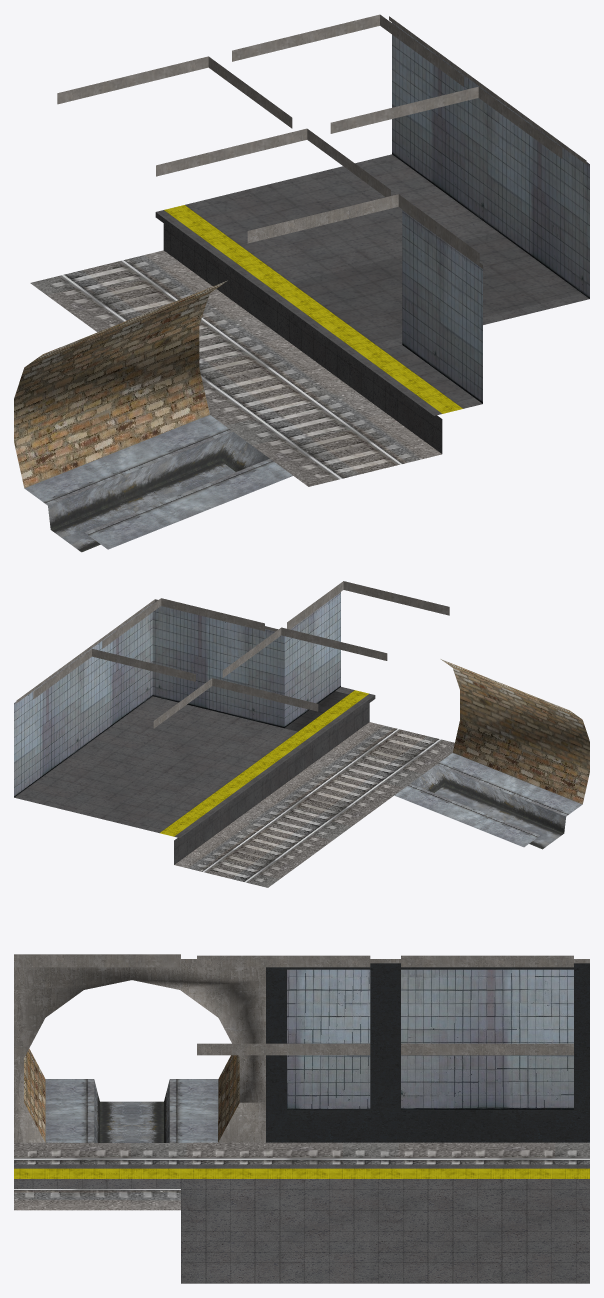
File: sewer connection.glb
3 renders of one model, top to bottom at view 1: azimuth 30°, elevation 25°; view 2: azimuth 150°, elevation 25°; view 3: azimuth 270°, elevation 25°, orthographic. The views are drawn at different scales.
Parts seen in each view (by area): view 1: St_04; view 2: St_04; view 3: St_04.
Boxes of the visible parts, x1,y1,x2,y2 form: St_04: (14, 14, 589, 552); St_04: (14, 581, 589, 887); St_04: (14, 954, 589, 1283).
Bounding box in the file's own units: 20.01 × 8.47 × 17.64.
8 materials, 8 textured.
